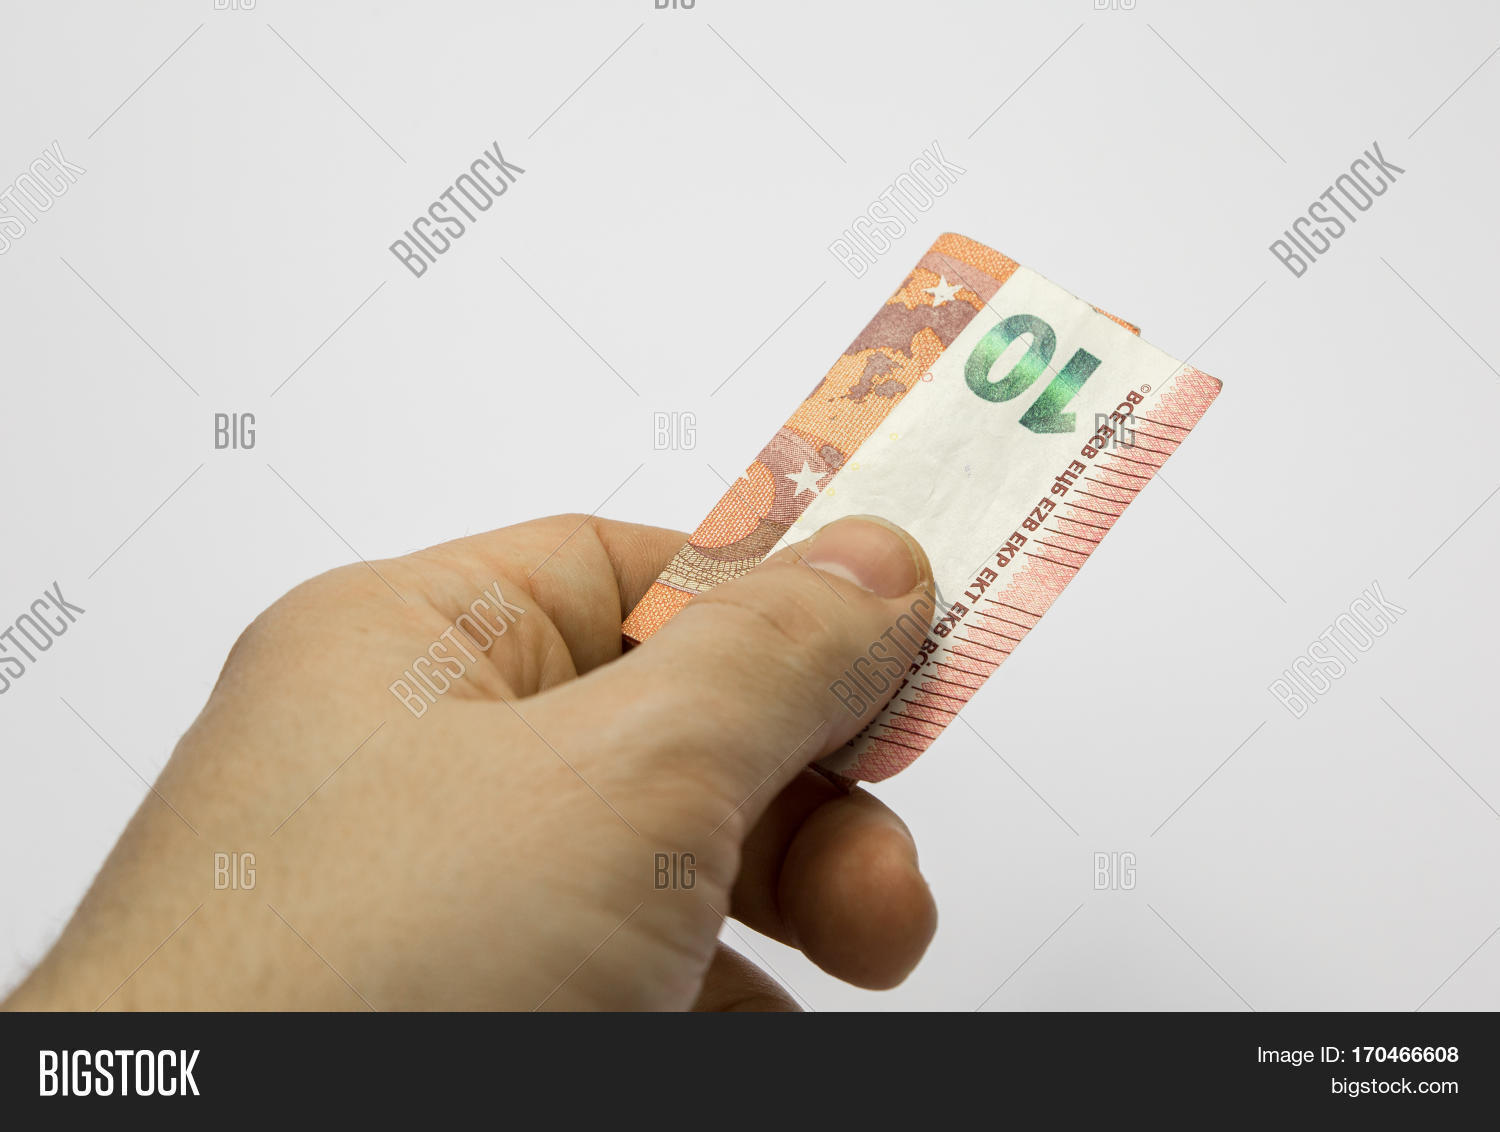billete: (618, 229, 1227, 794)
